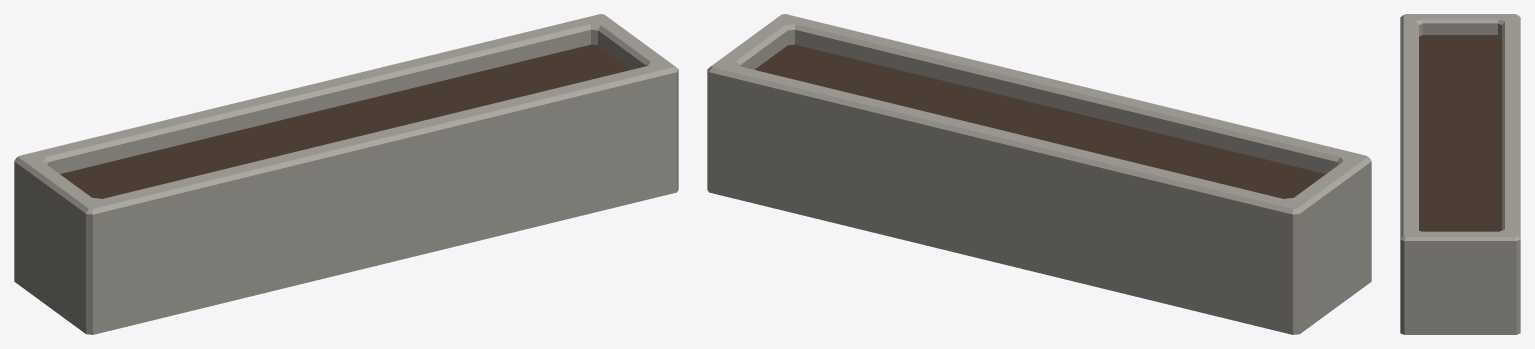
File: SM_Street_PlanterBed_Concrete_200_01.gltf
3 renders of one model, left to right at view 1: azimuth 30°, elevation 25°; view 2: azimuth 150°, elevation 25°; view 3: azimuth 270°, elevation 25°, orthographic. The views are drawn at different scales.
Parts seen in each view (by area): view 1: SM_Street_PlanterBed_Concrete_200_01; view 2: SM_Street_PlanterBed_Concrete_200_01; view 3: SM_Street_PlanterBed_Concrete_200_01.
Boxes of the visible parts, <box> form: SM_Street_PlanterBed_Concrete_200_01: <box>14,14,678,334</box>; SM_Street_PlanterBed_Concrete_200_01: <box>707,14,1371,334</box>; SM_Street_PlanterBed_Concrete_200_01: <box>1400,14,1520,334</box>.
Bounding box in the file's own units: 2 × 0.4 × 0.45.
Materials: 1 (1 with a texture image).
